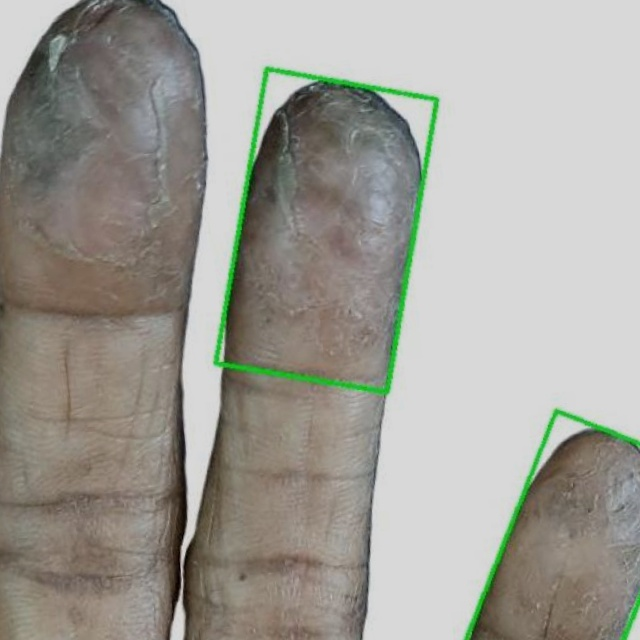Contact Dermatitis: (0, 0, 639, 639), (216, 69, 438, 391), (465, 410, 639, 639)
